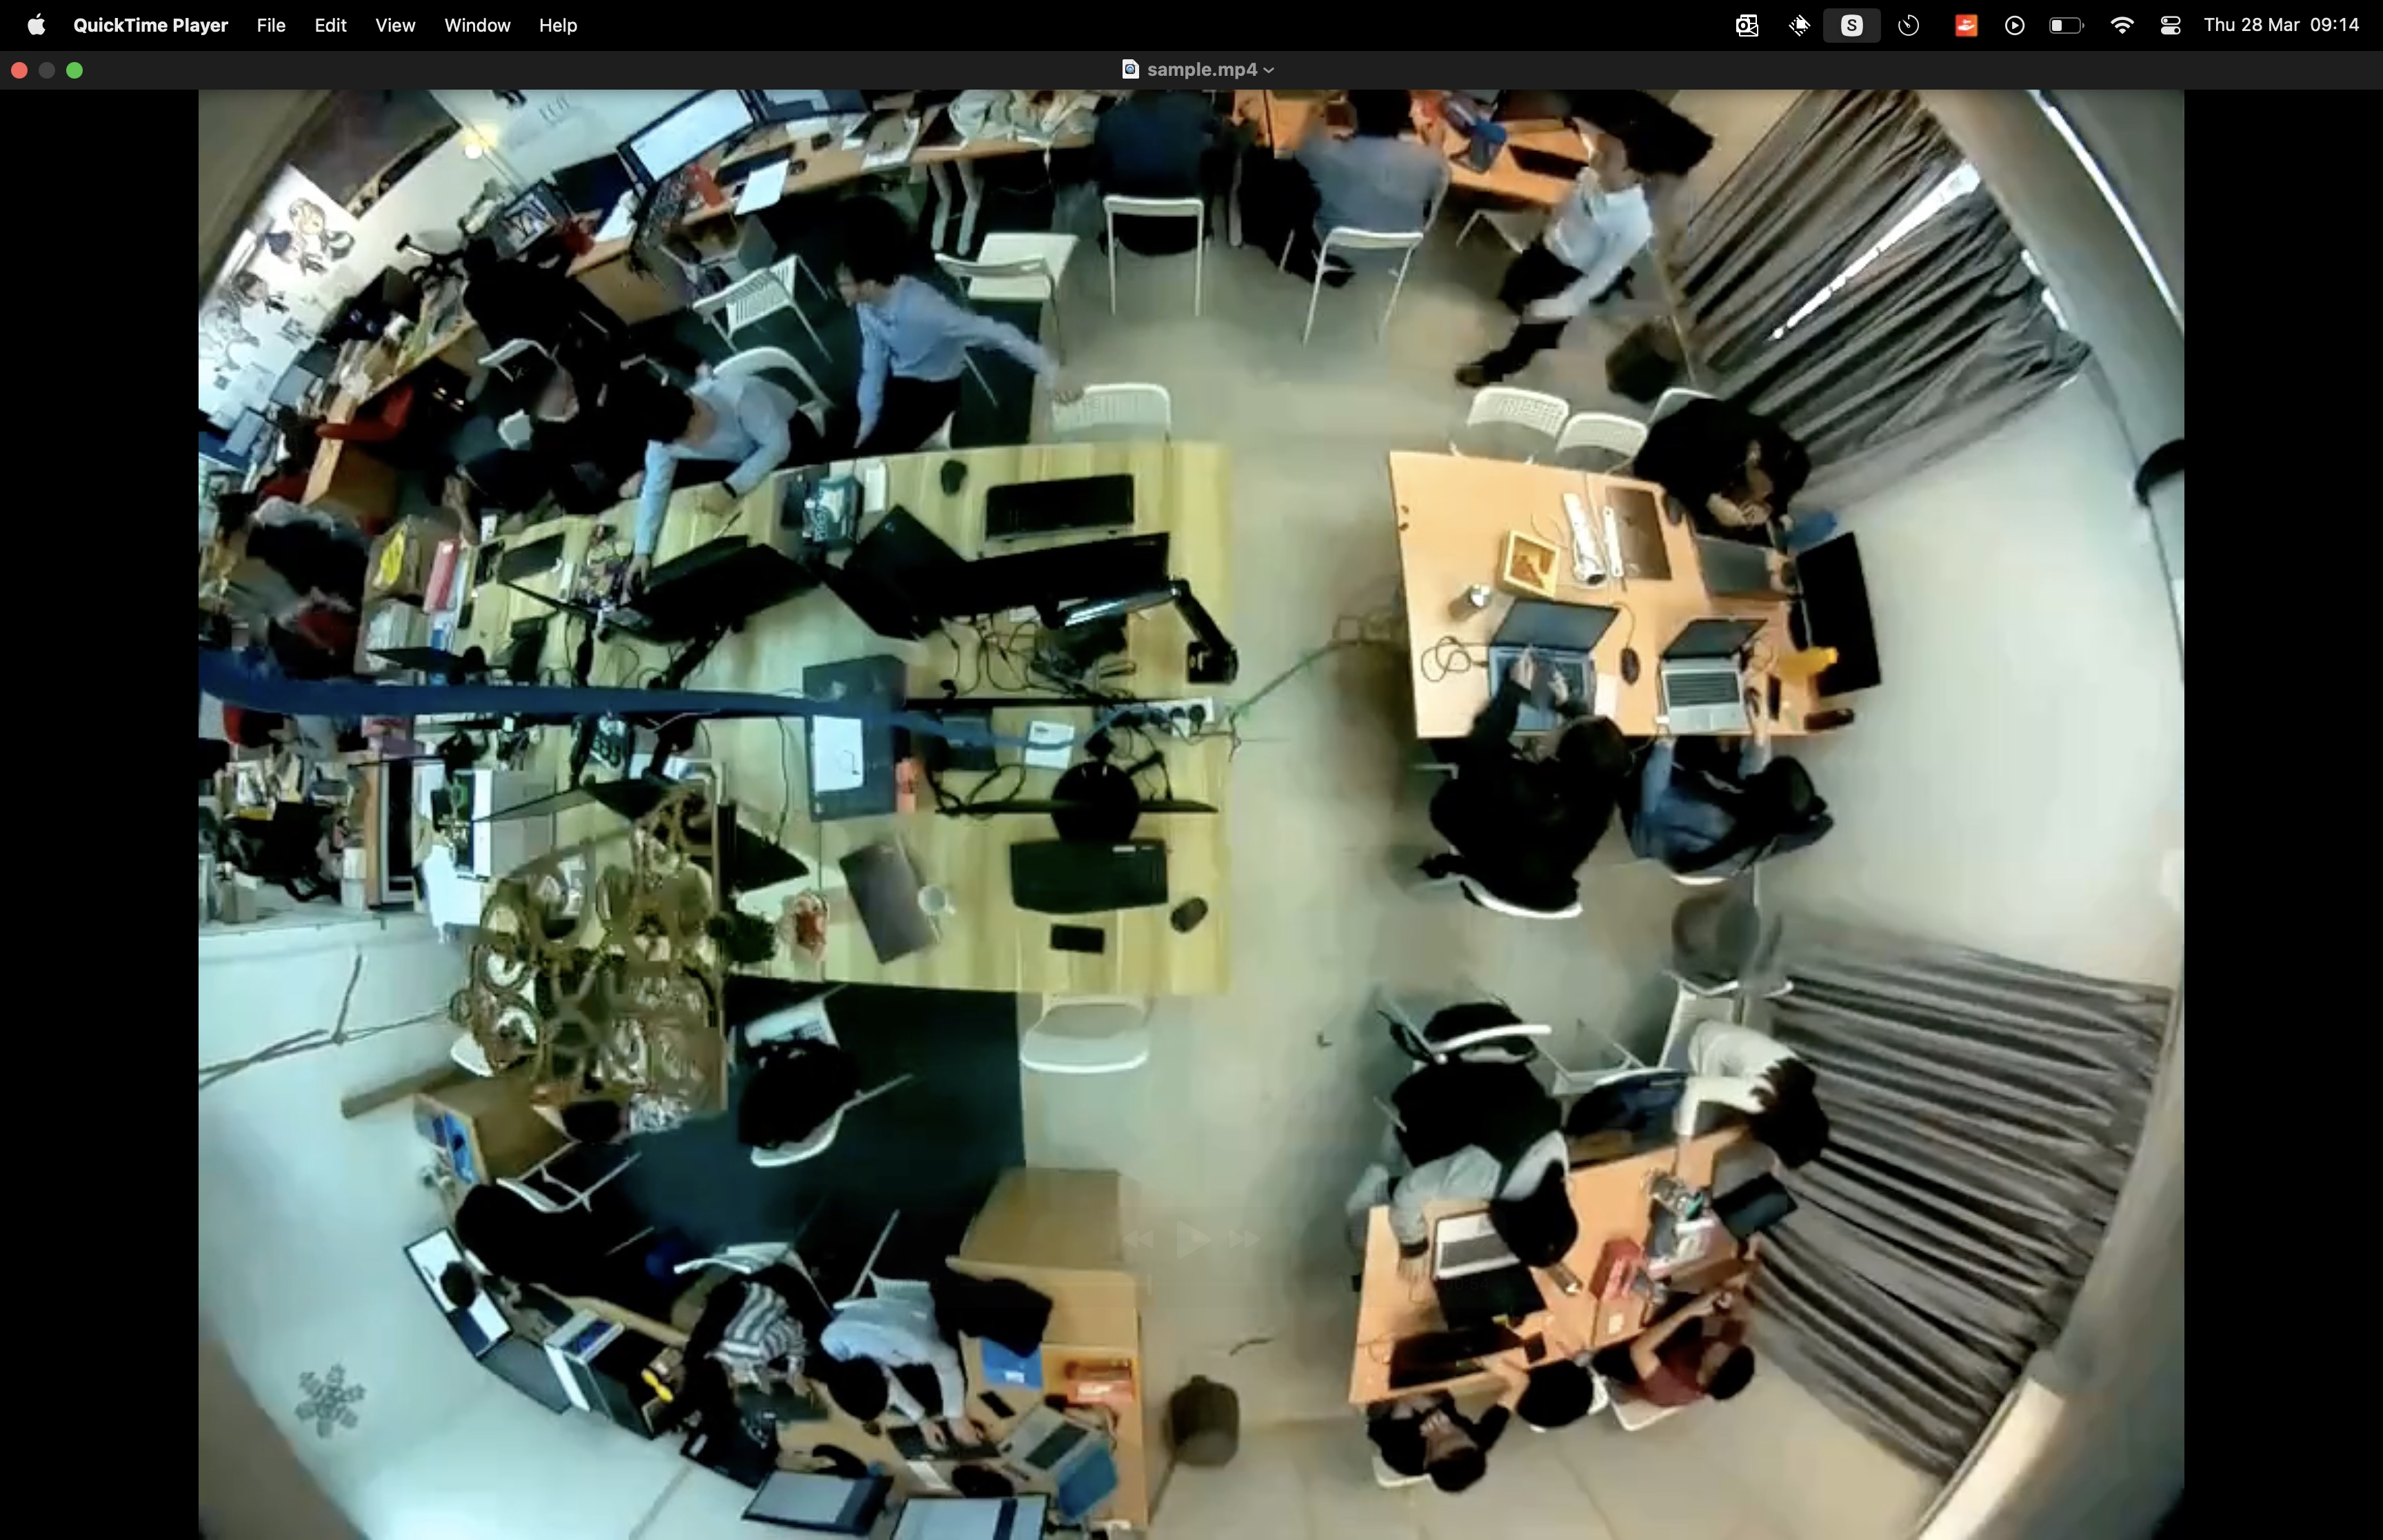Staff: (1456, 141, 1654, 392)
